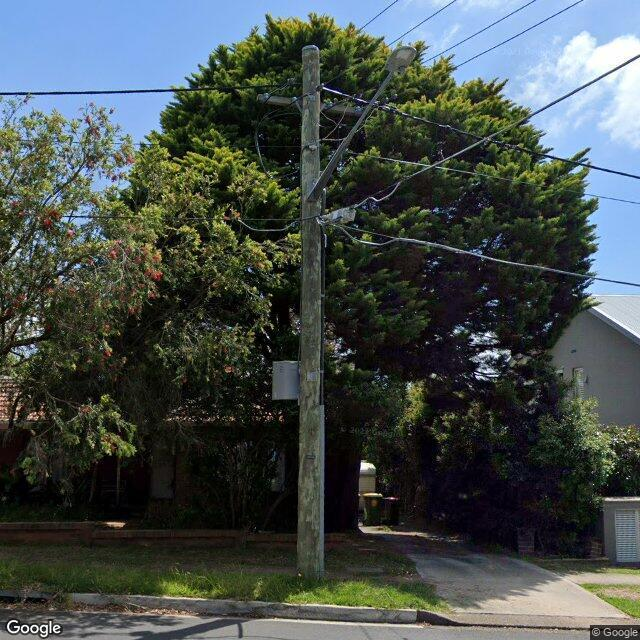crossarm: (256, 93, 366, 118), (292, 207, 356, 231)
streetlight: (306, 44, 420, 204)
timber-pole: (295, 45, 325, 587)
